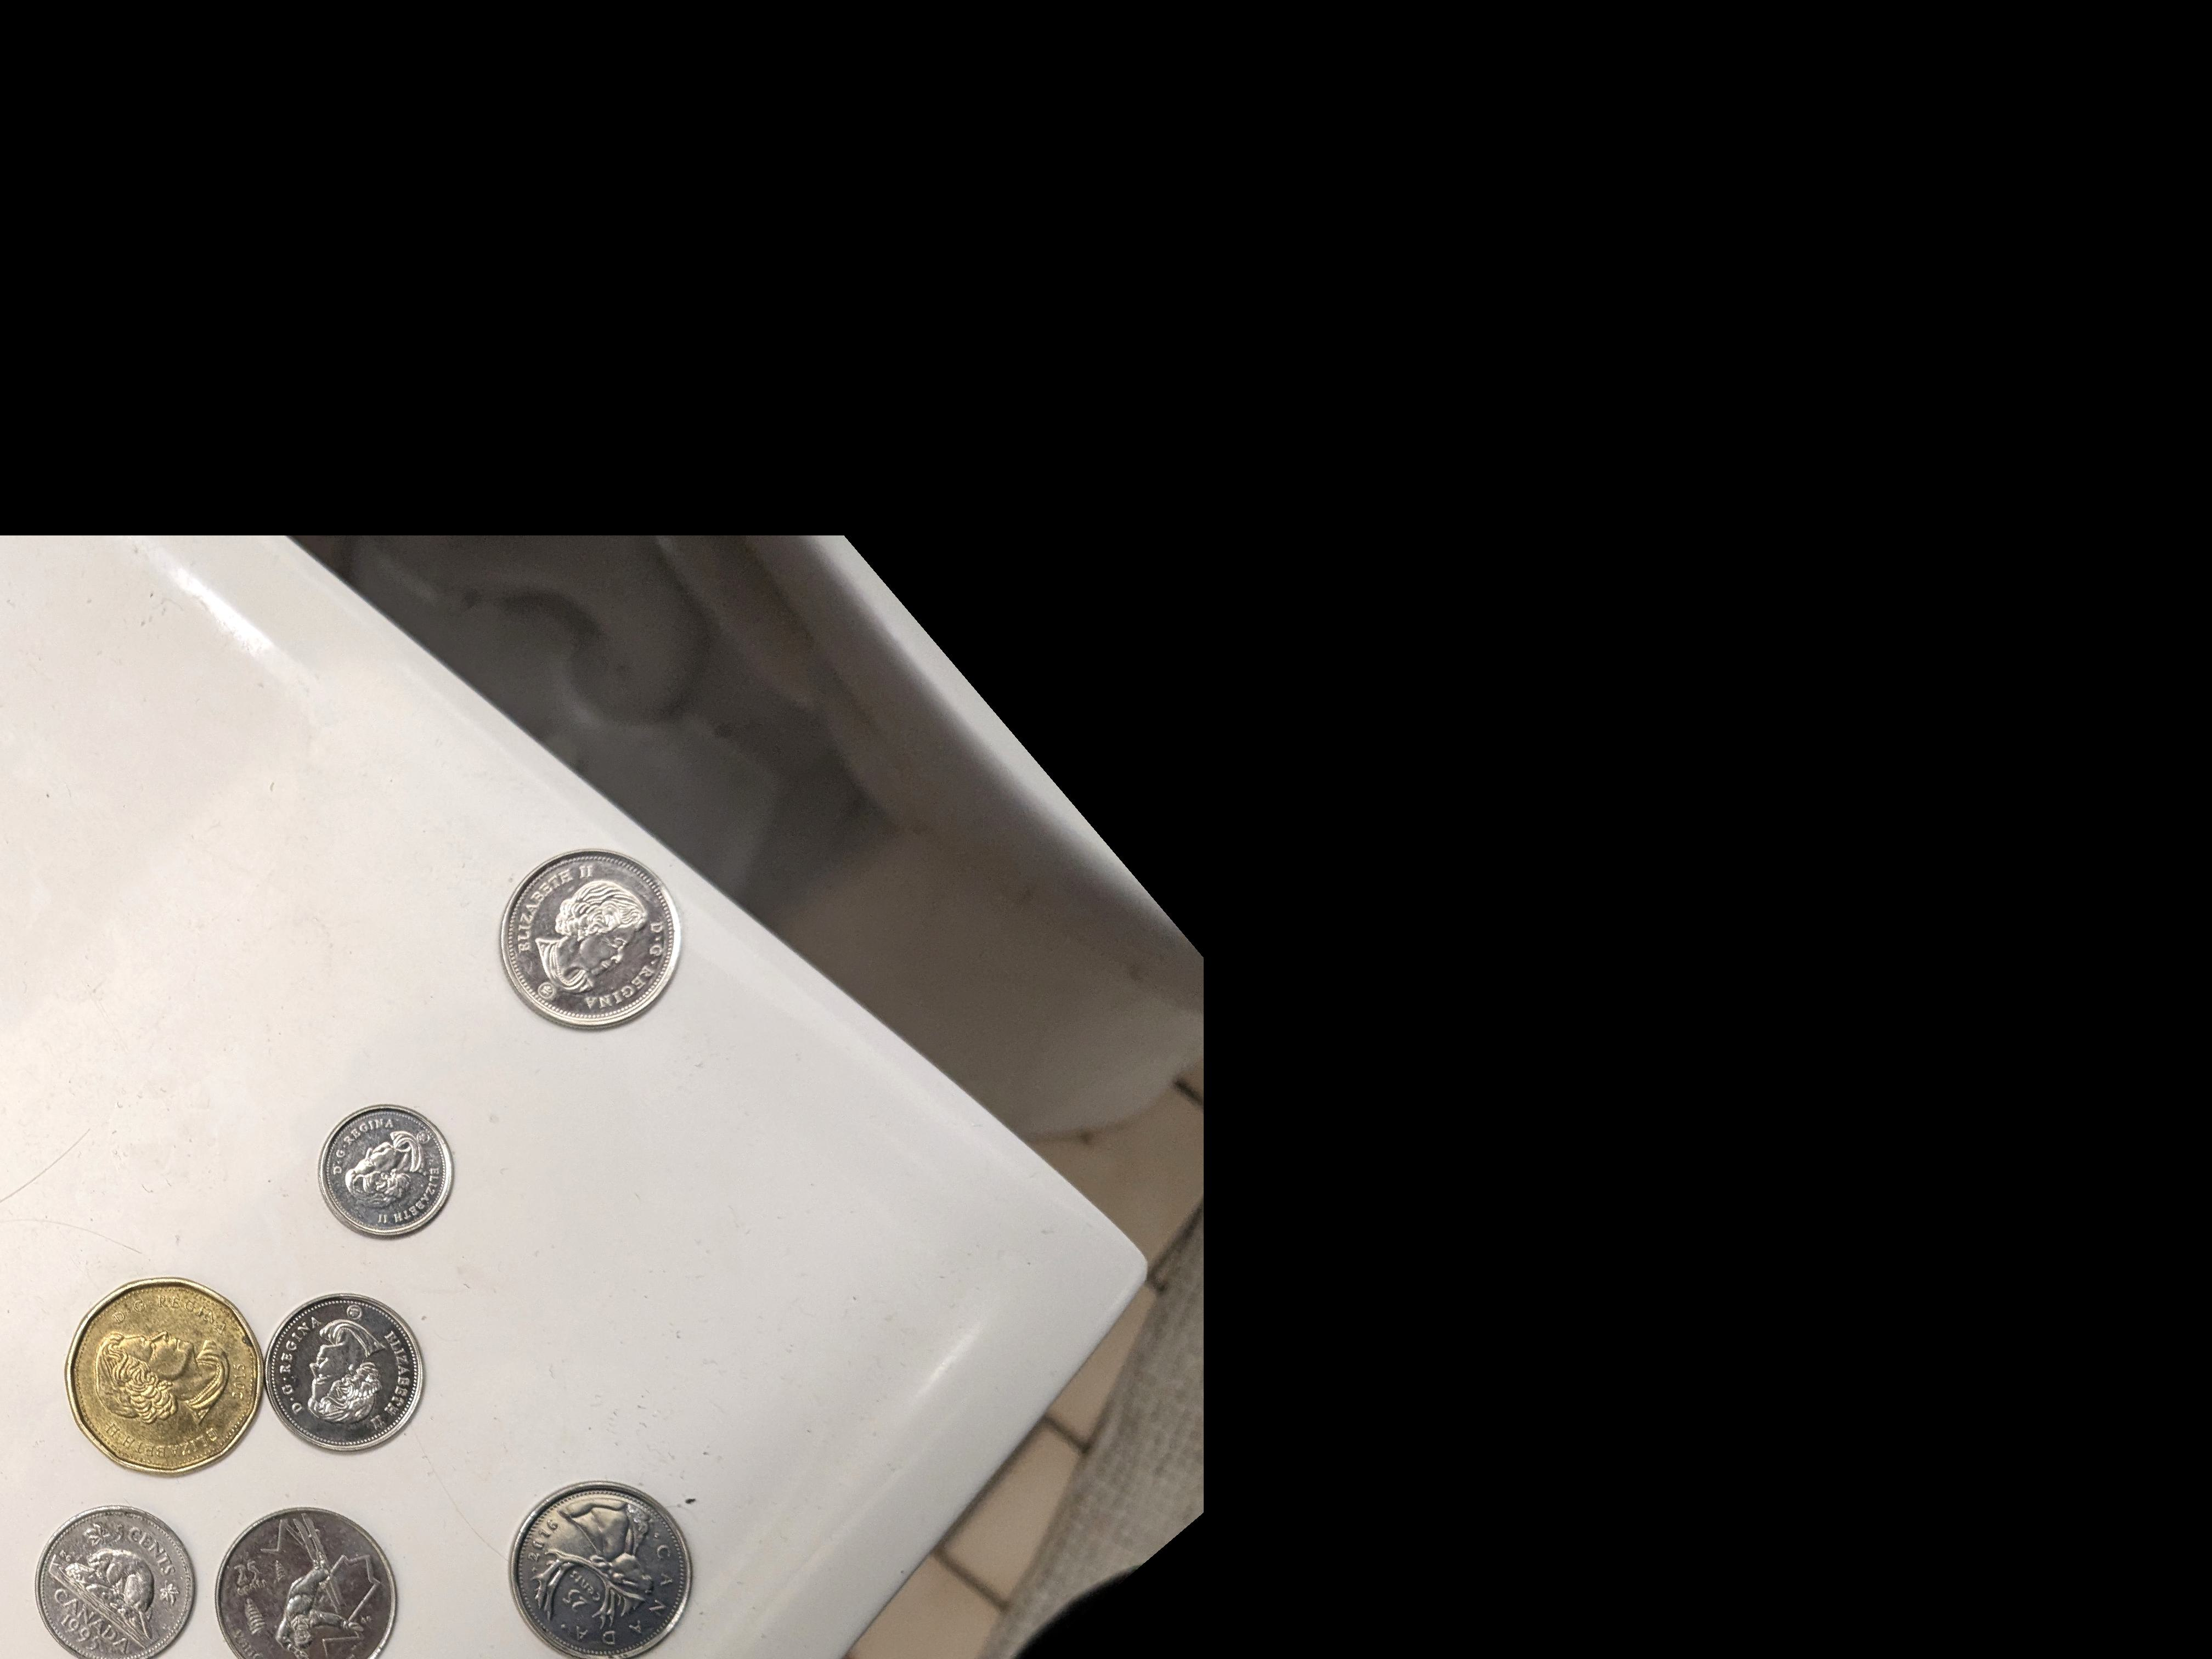dime: (315, 1094, 460, 1249)
loonie: (71, 1281, 263, 1478)
nickel: (30, 1500, 199, 1659), (272, 1288, 435, 1446)
quarter: (495, 849, 683, 1032), (505, 1481, 704, 1654), (219, 1509, 401, 1659)
